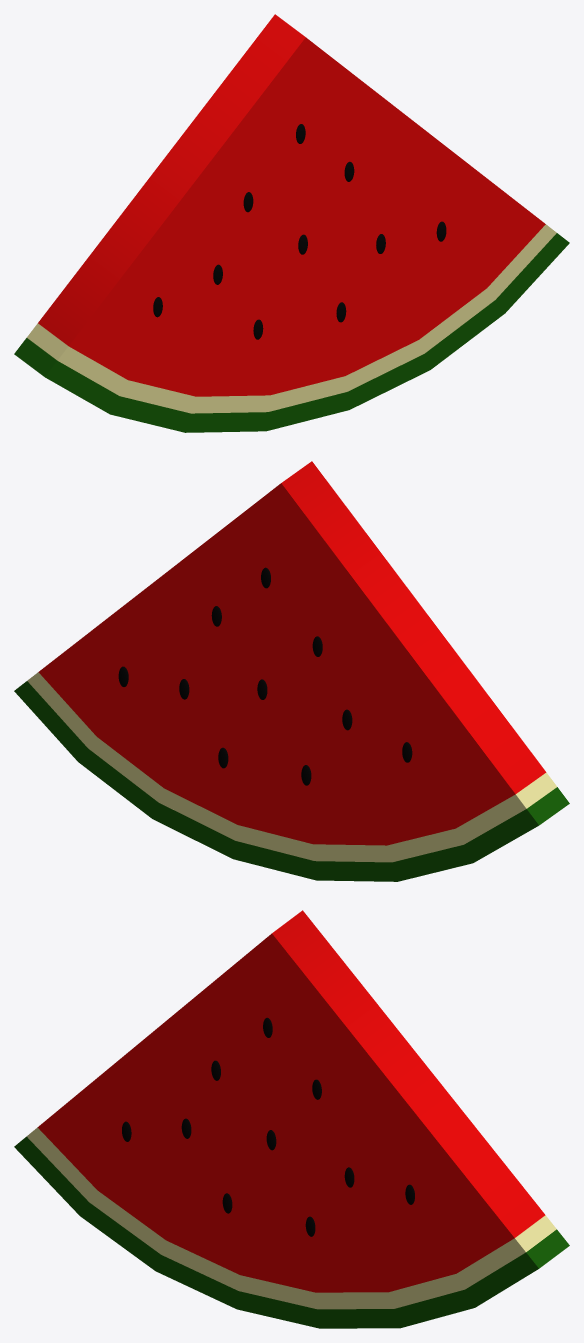
File: watermelonSlice.fbx
The picture shows the model from 3 angles, top to bottom: view 1: azimuth 30°, elevation 25°; view 2: azimuth 150°, elevation 25°; view 3: azimuth 330°, elevation 25°; orthographic projection.
Visible parts, largest first — view 1: watermelon4; view 2: watermelon4; view 3: watermelon4.
Part boxes in pixels (x1,y1,x2,y2): watermelon4: (14, 14, 569, 432); watermelon4: (14, 461, 569, 881); watermelon4: (14, 910, 569, 1328).
Bounding box in the file's own units: 2.16 × 1.53 × 0.2511.
